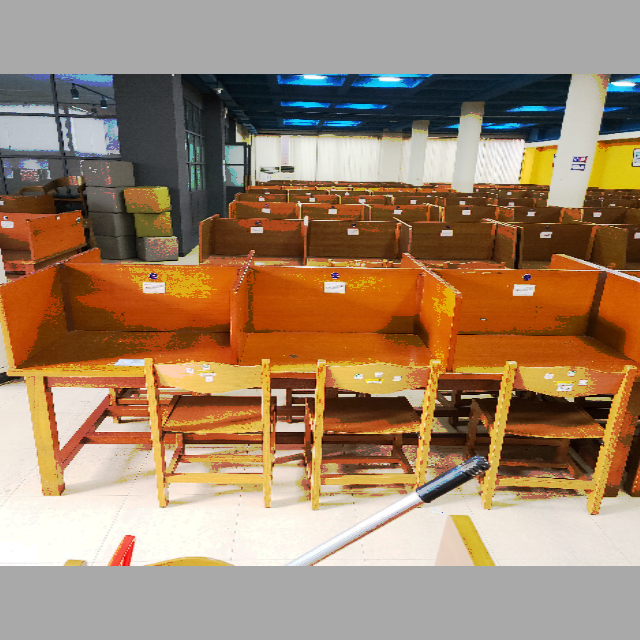empty: (4, 254, 235, 439), (239, 257, 449, 439), (459, 248, 639, 437)
